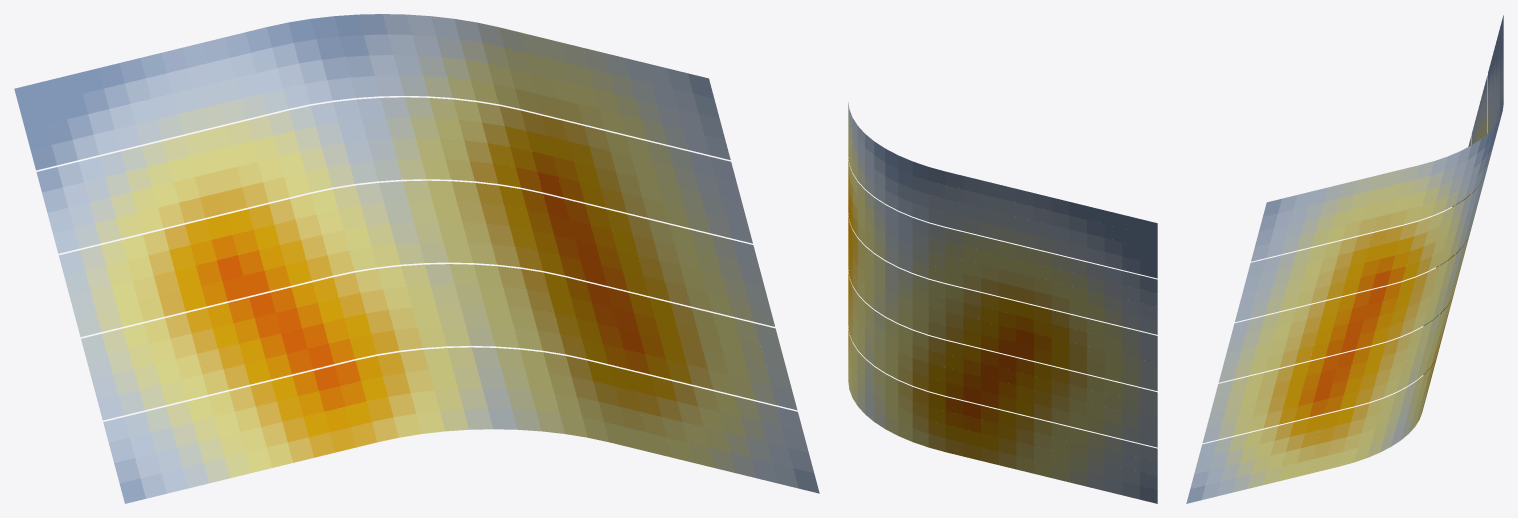
Rendered from subpanelsColored.glb.
The picture shows the model from 3 angles, left to right: view 1: azimuth 30°, elevation 25°; view 2: azimuth 150°, elevation 25°; view 3: azimuth 270°, elevation 25°; orthographic projection. The views are drawn at different scales.
Bounding box in the file's own units: 38.44 × 24.3 × 24.79.
